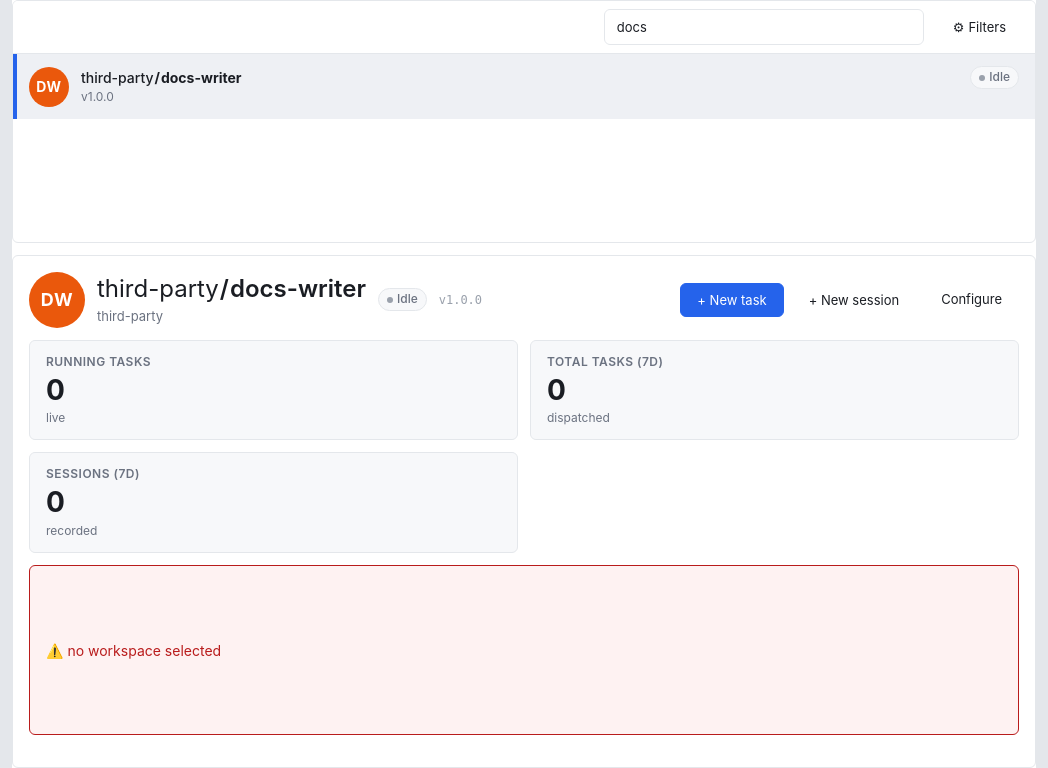
Test: AgentsListPage Block H polish (§4.2) › search filters rows by substring across short, scope, and fqn
This screenshot has width=1048, height=768.
Expected: the 1st text "docs-writer" is shown, [161,69,242,87]
# Match against scope this time.
Step 1. Replace the text in the search field with test id "agents-list-search" with "emploke" → (764, 27), box [604,9,924,45]
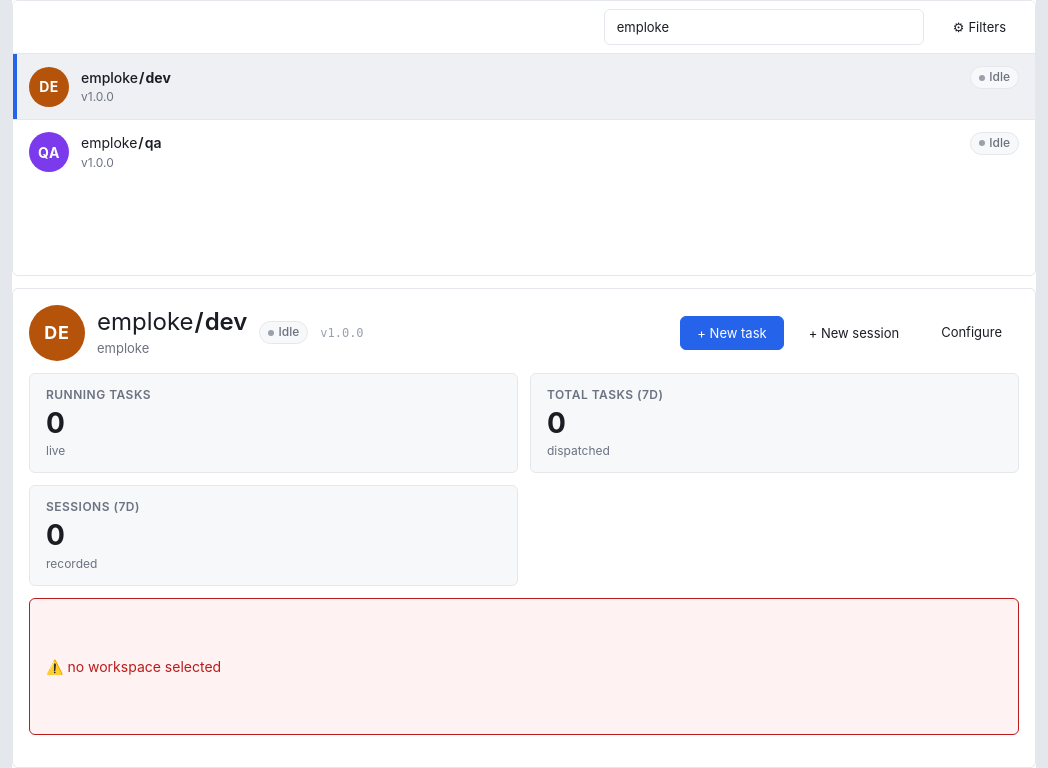
Expected: the 1st text "dev" is shown, [146,69,171,87]
Expected: the text "qa" is shown, [145,134,161,153]
Expected: no buttons "docs-writer" are shown
